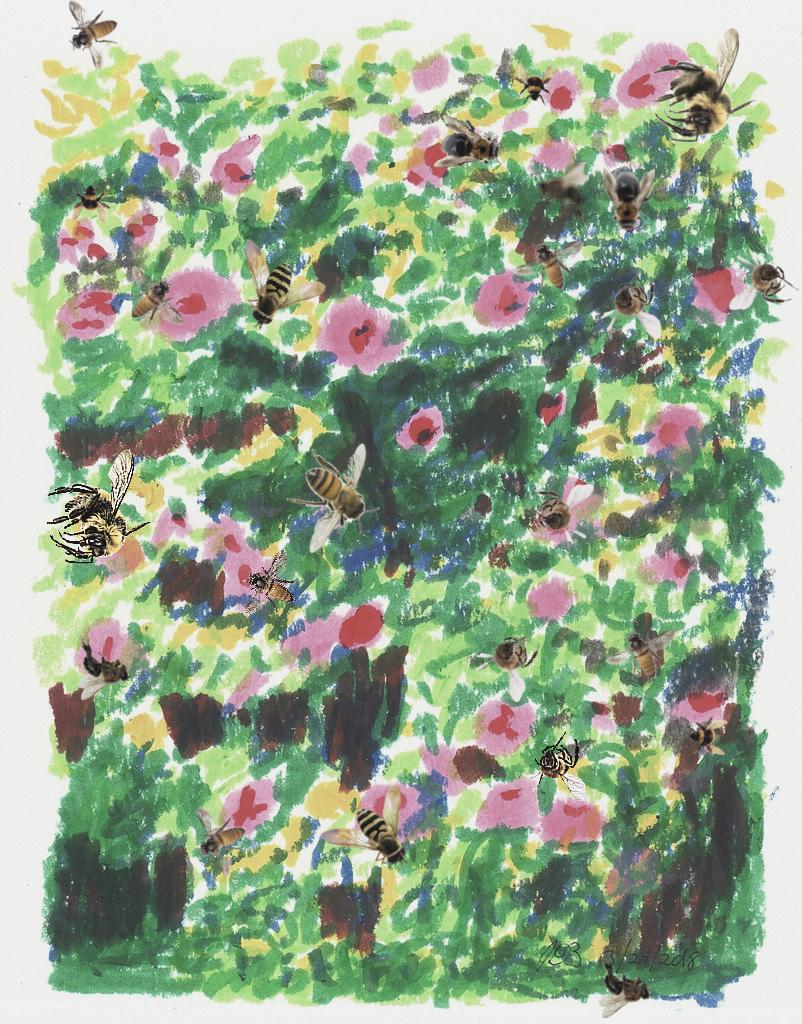Bee: (219, 217, 331, 333), (46, 449, 153, 564), (651, 27, 758, 142), (286, 443, 380, 554), (464, 612, 553, 704), (225, 547, 313, 630), (320, 785, 408, 867), (116, 256, 186, 339), (433, 115, 509, 177), (600, 269, 661, 339), (729, 249, 799, 310), (525, 731, 586, 801), (524, 484, 594, 545), (68, 0, 118, 71), (605, 629, 676, 679), (196, 807, 246, 878), (513, 240, 584, 290), (603, 167, 655, 235), (599, 956, 652, 1018), (78, 638, 131, 700), (536, 162, 589, 224), (511, 62, 555, 106), (684, 713, 728, 757), (70, 180, 114, 224)
